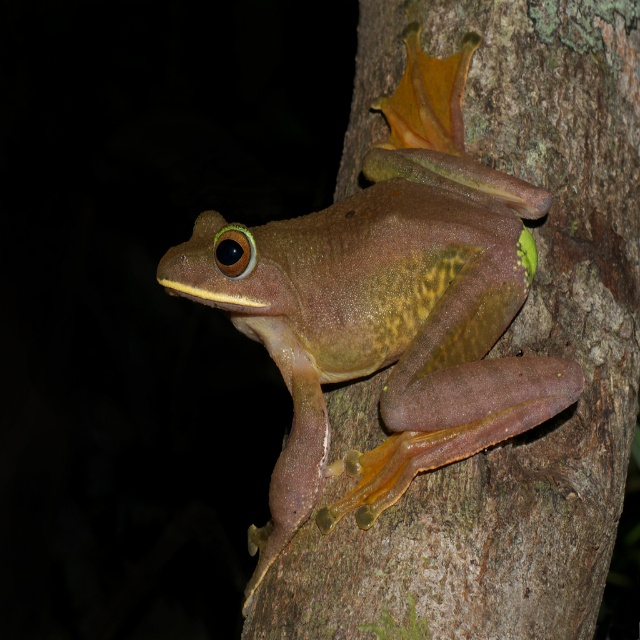Frog: (156, 29, 584, 621)
